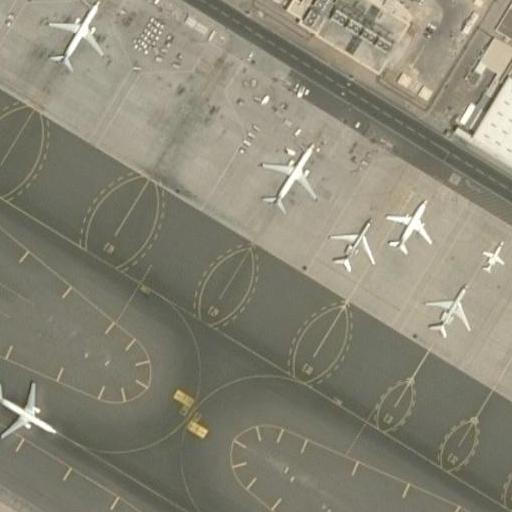Aircraft: (378, 192, 448, 255), (258, 133, 314, 211), (47, 0, 113, 62), (0, 376, 53, 446), (319, 213, 374, 277), (418, 279, 473, 339)
